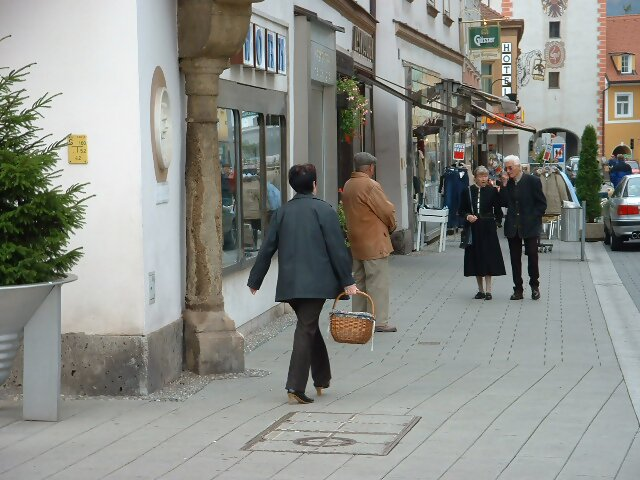person: (245, 161, 361, 408), (336, 150, 403, 338), (451, 160, 511, 304), (499, 147, 551, 306)
